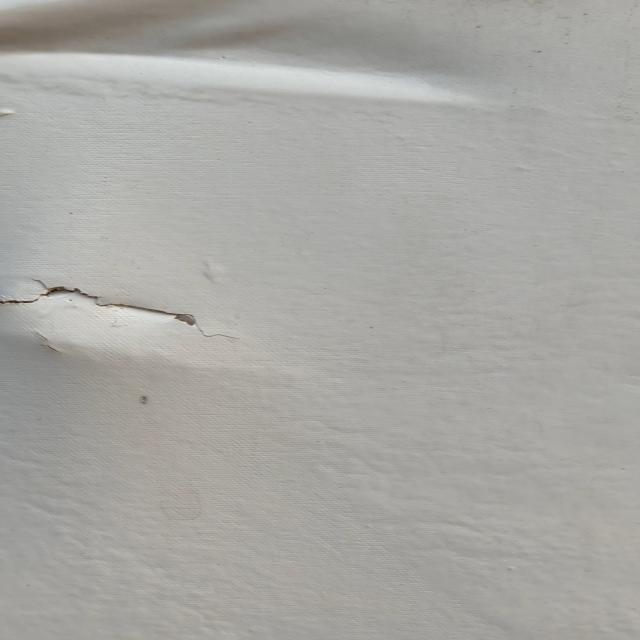Dents or Deformation: (1, 1, 475, 117)
Scratches: (1, 265, 240, 379)
